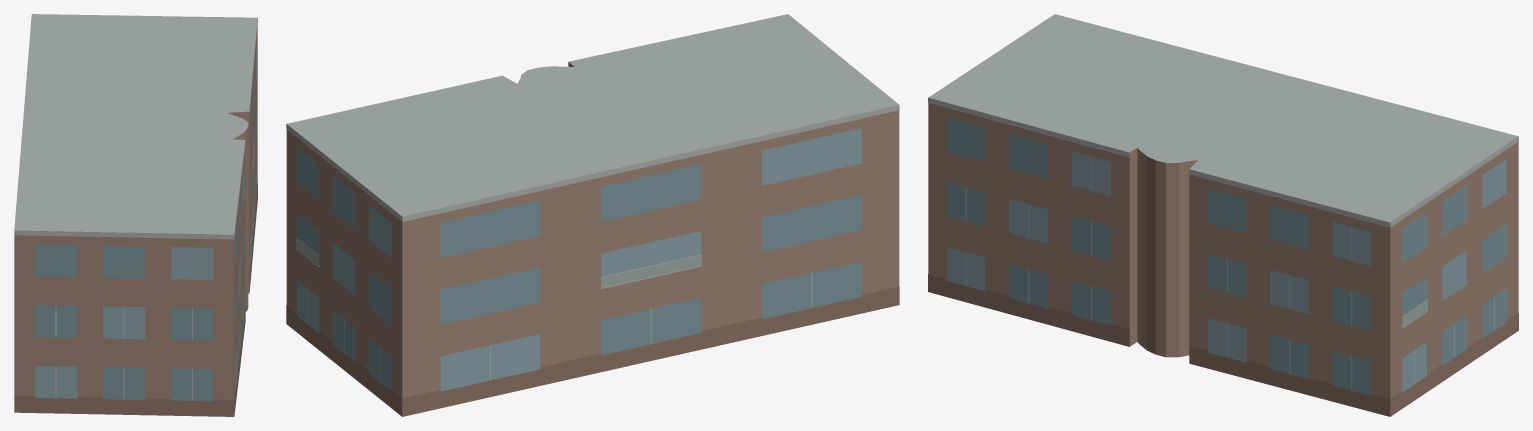
The model's file is survey-upis-32892419.glb.
3 renders of one model, left to right at view 1: azimuth 30°, elevation 25°; view 2: azimuth 150°, elevation 25°; view 3: azimuth 270°, elevation 25°, orthographic. The views are drawn at different scales.
Visible parts, largest first — view 1: survey-upis-32892419.tmp; view 2: survey-upis-32892419.tmp; view 3: survey-upis-32892419.tmp.
Part boxes in pixels (x1=…): survey-upis-32892419.tmp: x1=14, y1=14, x2=257, y2=416; survey-upis-32892419.tmp: x1=286, y1=14, x2=899, y2=416; survey-upis-32892419.tmp: x1=928, y1=14, x2=1518, y2=416.
Size of the model in its own units: 21.07 by 9.15 by 25.21.
